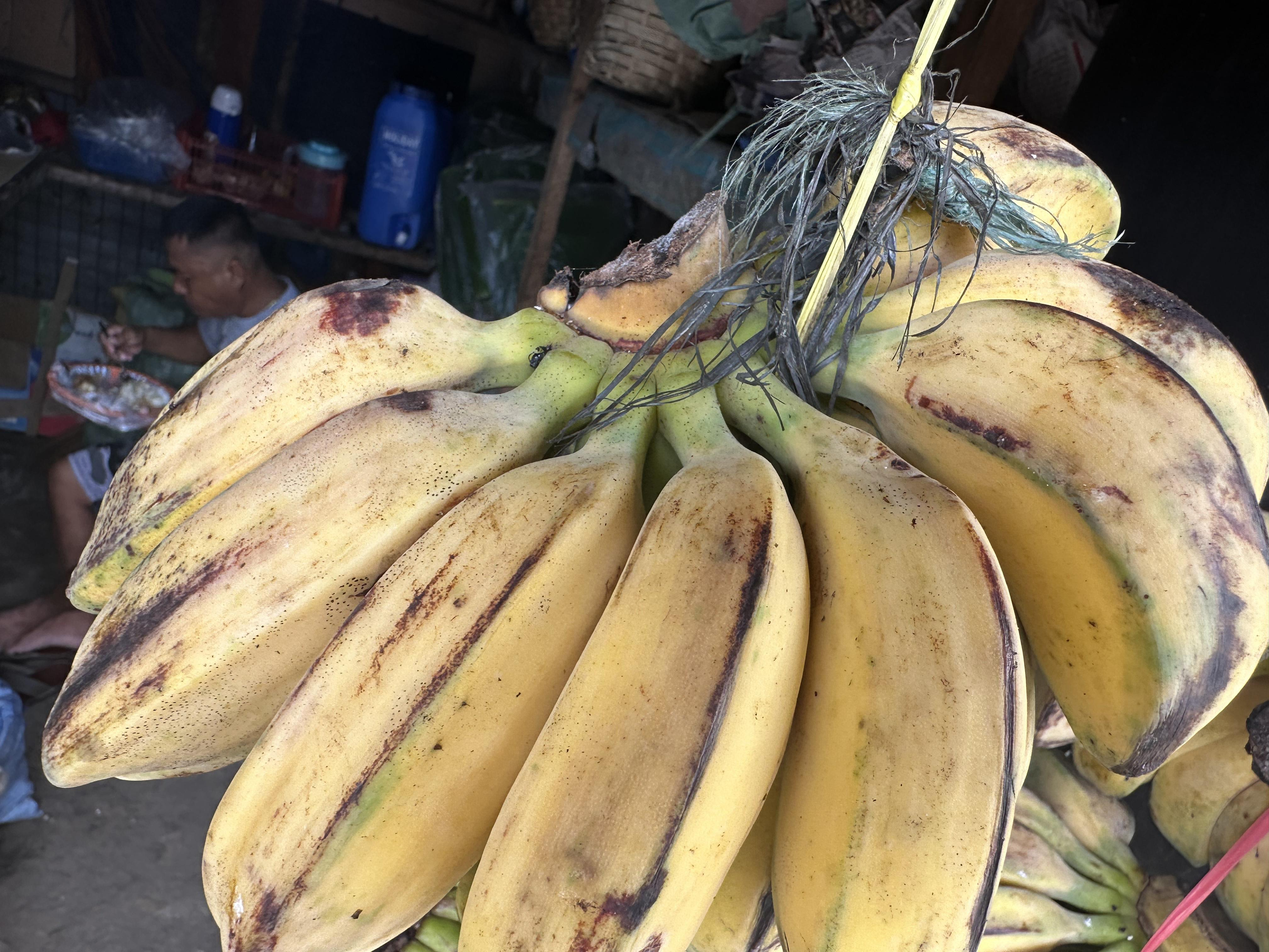underripe: (42, 102, 1269, 952)
